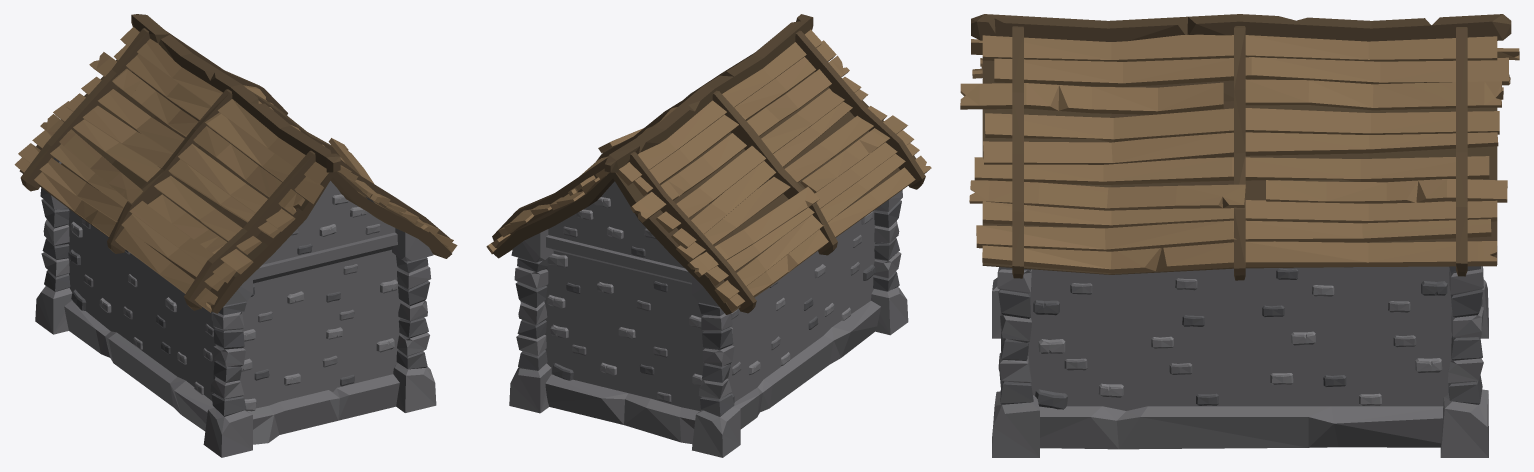
Rendered from SM_Bld_Church_Room_03.gltf.
3 renders of one model, left to right at view 1: azimuth 30°, elevation 25°; view 2: azimuth 150°, elevation 25°; view 3: azimuth 270°, elevation 25°, orthographic. The views are drawn at different scales.
Visible parts, largest first — view 1: SM_Bld_Church_Room_03; view 2: SM_Bld_Church_Room_03; view 3: SM_Bld_Church_Room_03.
Boxes of the visible parts, x1,y1,x2,y2 form: SM_Bld_Church_Room_03: (14, 14, 457, 457); SM_Bld_Church_Room_03: (486, 14, 931, 457); SM_Bld_Church_Room_03: (960, 14, 1519, 457).
Bounding box in the file's own units: 6.42 × 6.4 × 8.75.
1 material, 1 textured.
